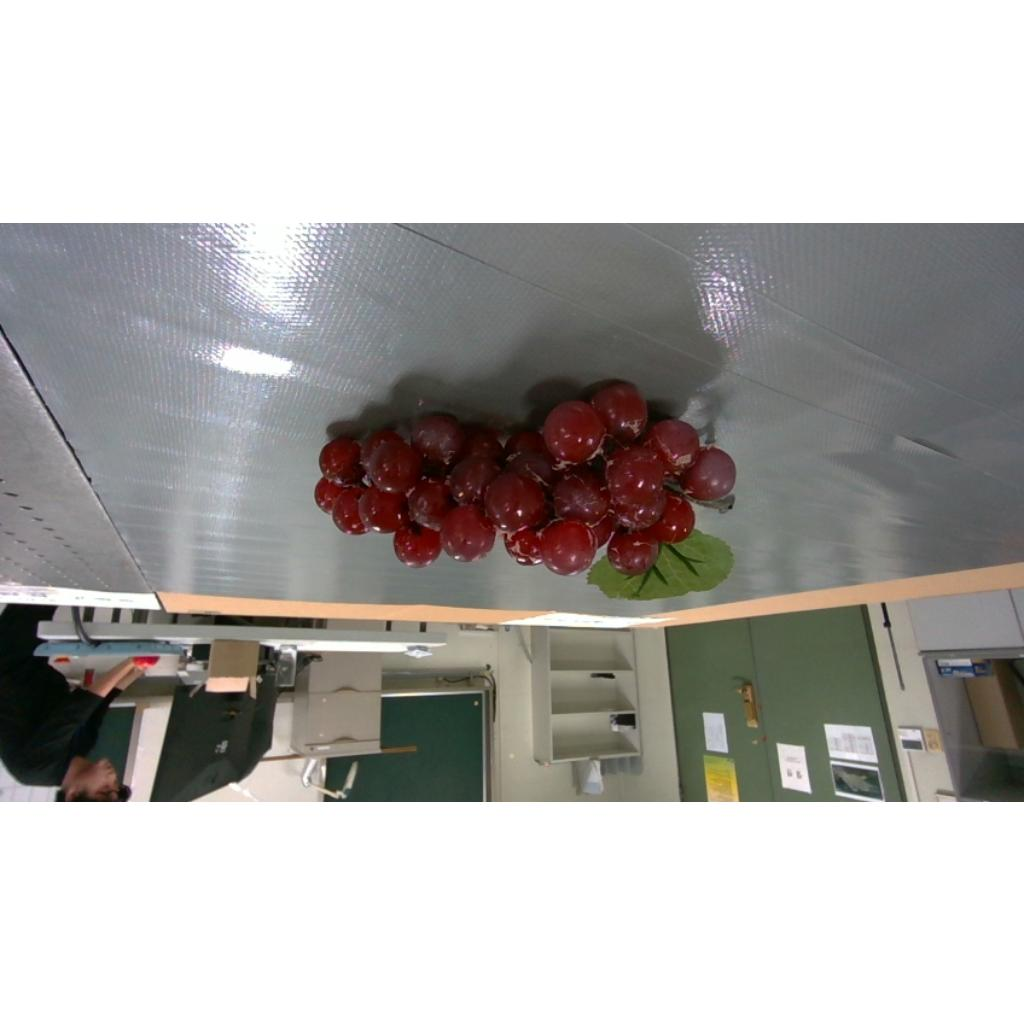grape: (314, 384, 736, 599)
